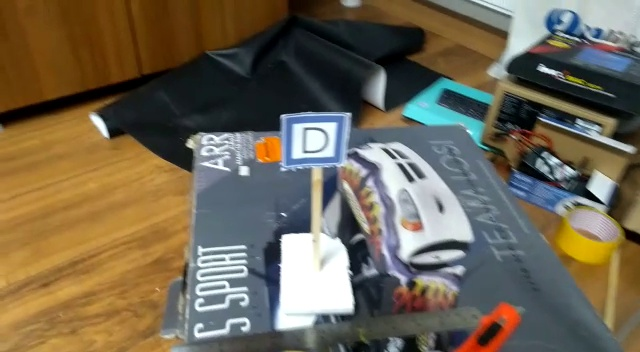durak: (287, 115, 343, 167)
